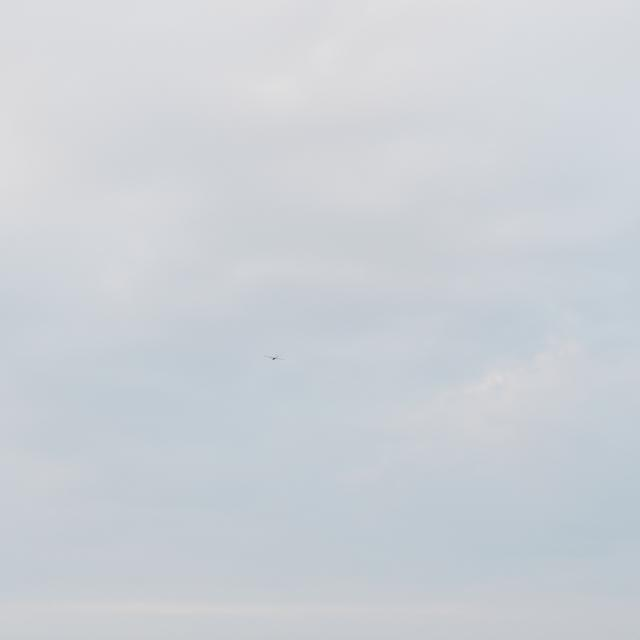Airaplan: (264, 354, 285, 360)
